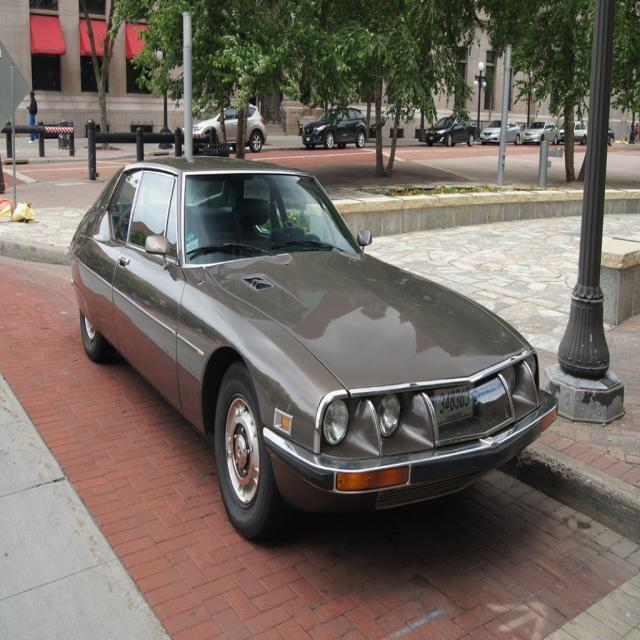car: (70, 165, 559, 539)
